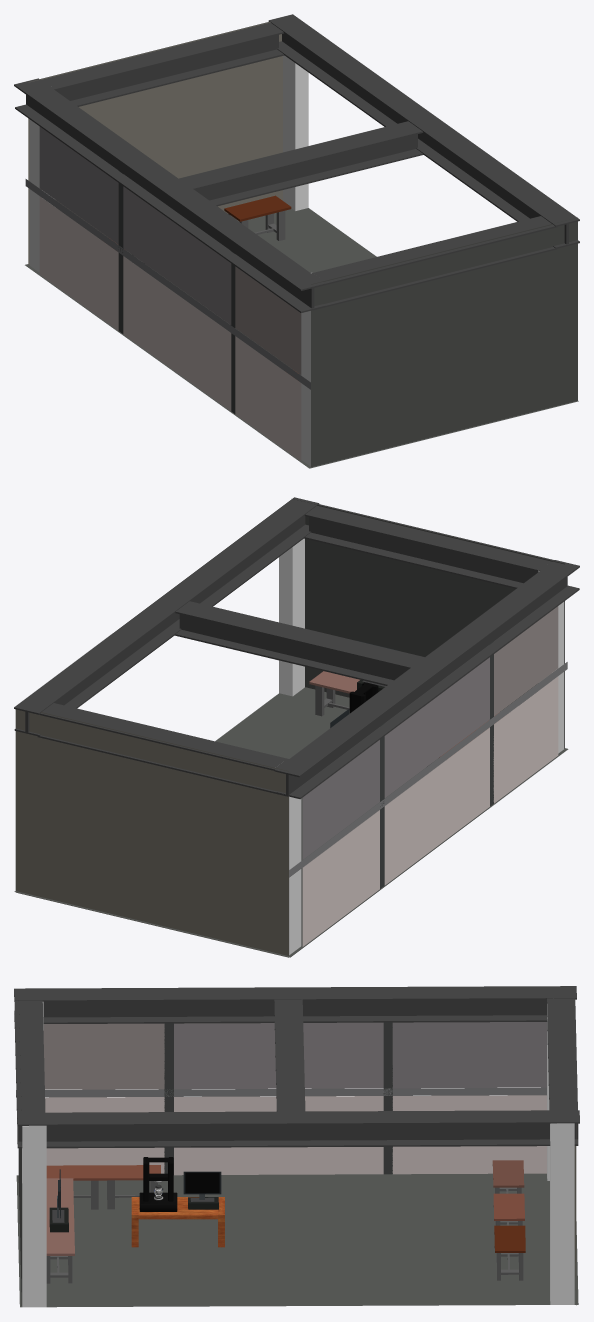
The model's file is concreto-compresion.gltf.
The picture shows the model from 3 angles, top to bottom: view 1: azimuth 30°, elevation 25°; view 2: azimuth 150°, elevation 25°; view 3: azimuth 270°, elevation 25°; orthographic projection.
Visible parts, largest first — view 1: Vigas_Amarre, ParedFondo, ParedDerecha, ParedIzquierda.005, ParedIzquierda.008, ParedIzquierda.006, ParedIzquierda.001, Piso, ParedIzquierda.007, ParedIzquierda.009, Columna4, ParedIzquierda.002 (+5 smaller); view 2: ParedDerecha, Vigas_Amarre, ParedFondo, ParedIzquierda.005, ParedIzquierda.008, Piso, ParedIzquierda.006, ParedIzquierda.001, ParedIzquierda.007, ParedIzquierda.009, Columna1, ParedIzquierda.002 (+5 smaller); view 3: Piso, Vigas_Amarre, ParedIzquierda.008, ParedIzquierda.007, ParedIzquierda.005, ParedIzquierda.009, ParedIzquierda.006, Columna1, Columna4, ParedIzquierda.001, ParedIzquierda.002, mesa_compresion (+13 smaller).
Boxes of the visible parts, x1,y1,x2,y2 form: Vigas_Amarre: (14, 14, 579, 312); ParedFondo: (311, 217, 577, 467); ParedDerecha: (28, 22, 282, 264); ParedIzquierda.005: (123, 256, 231, 410); ParedIzquierda.008: (123, 186, 231, 324); ParedIzquierda.006: (39, 196, 118, 330); ParedIzquierda.001: (235, 336, 301, 461); Piso: (25, 208, 578, 468); ParedIzquierda.007: (39, 127, 118, 244); ParedIzquierda.009: (235, 266, 301, 374); Columna4: (283, 55, 308, 210); ParedIzquierda.002: (25, 179, 310, 389); ParedDerecha: (15, 709, 288, 957); Vigas_Amarre: (14, 497, 579, 799); ParedFondo: (293, 499, 564, 748); ParedIzquierda.005: (384, 727, 489, 885); ParedIzquierda.008: (384, 657, 489, 797); Piso: (14, 687, 568, 957); ParedIzquierda.006: (302, 810, 379, 946); ParedIzquierda.001: (493, 676, 558, 803); ParedIzquierda.007: (302, 740, 379, 859); ParedIzquierda.009: (494, 606, 558, 716); Columna1: (279, 538, 304, 696); ParedIzquierda.002: (289, 662, 567, 877); Piso: (16, 1173, 578, 1307); Vigas_Amarre: (14, 986, 579, 1148); ParedIzquierda.008: (174, 1022, 383, 1089); ParedIzquierda.007: (392, 1022, 546, 1088); ParedIzquierda.005: (174, 1096, 383, 1175); ParedIzquierda.009: (43, 1023, 164, 1089); ParedIzquierda.006: (392, 1095, 546, 1174); Columna1: (22, 1125, 46, 1307); Columna4: (550, 1123, 574, 1304); ParedIzquierda.001: (45, 1097, 164, 1173); ParedIzquierda.002: (16, 1087, 546, 1097); mesa_compresion: (131, 1197, 224, 1247).
Size of the model in its own units: 10.57 by 6.51 by 18.15.
Materials: 47 (2 with a texture image).
